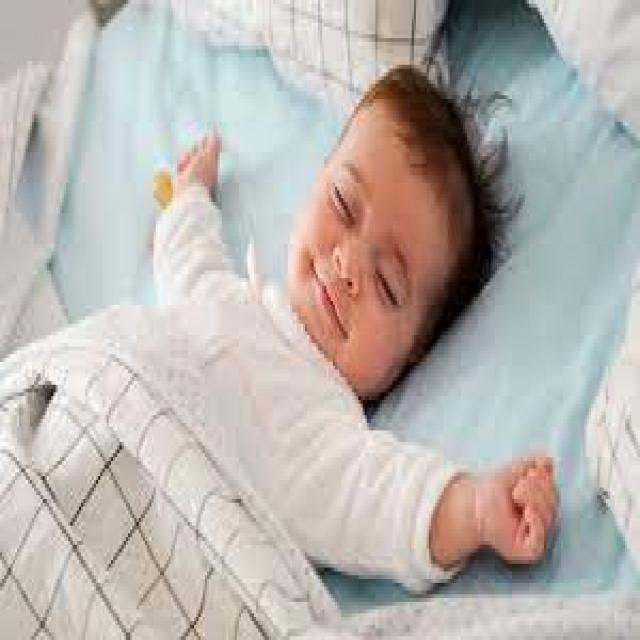blanket: (0, 333, 340, 636)
